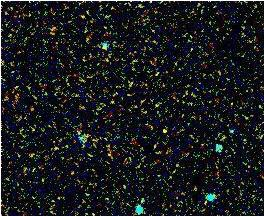star: (149, 116, 179, 146)
